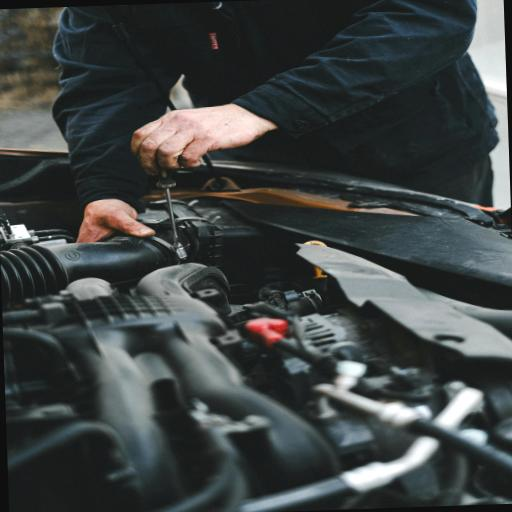Gloves: (108, 86, 297, 178)
